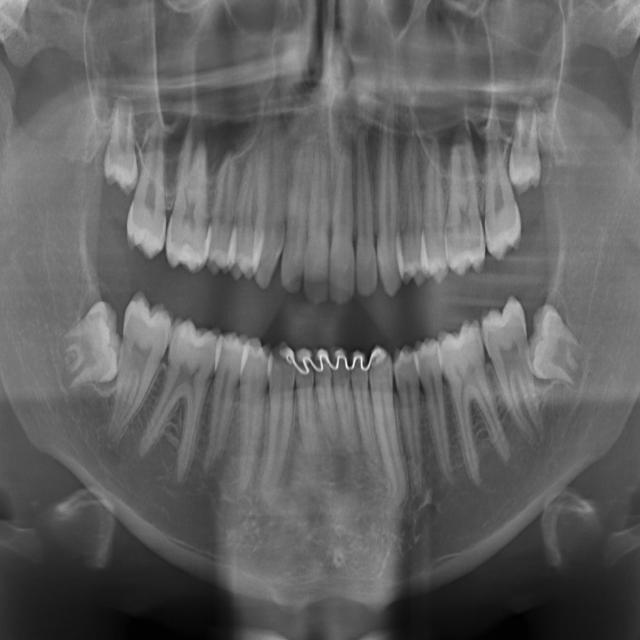3M ESPE Implant: (97, 94, 140, 197)
AGS Medikal Implant: (356, 126, 378, 299)
AMerOss Implant: (370, 88, 403, 298)
Amalgam filling: (391, 132, 430, 289)
Anthogyr Implant: (418, 130, 450, 286)
Bicon Implant: (436, 124, 488, 277)
BioHorizons Implant: (482, 113, 523, 262)
BioLife Implant: (503, 96, 543, 197)
Biomet 3i Implant: (523, 301, 591, 390)
Blue Sky Bio Implant: (538, 437, 540, 439)
Camlog Implant: (432, 317, 519, 493)
Caries: (159, 131, 159, 132)
Composite filling: (413, 336, 463, 489)
Cowellmedi Implant: (389, 342, 439, 505)
Crown: (364, 337, 411, 517)
DENTSPLY Implant: (346, 337, 383, 472)
Dentatus Implant: (326, 338, 363, 457)
Dentis Implant: (308, 340, 342, 446)
Dentium Implant: (291, 343, 321, 465)
Euroteknika Implant: (257, 338, 300, 507)
Filling: (226, 335, 274, 495)
Frontier Implant: (194, 329, 248, 479)
Hiossen Implant: (194, 148, 194, 149)
Implant: (105, 289, 175, 452)
Implant Direct: (131, 312, 227, 487)
Keystone Dental Implant: (48, 297, 128, 390)
MIS Implant: (204, 148, 242, 278)
Mandible: (230, 143, 263, 282)
Maxilla: (253, 83, 292, 292)
Megagen Implant: (278, 114, 317, 297)
Neodent Implant: (303, 134, 332, 304)
Neoss Implant: (330, 135, 354, 308)
